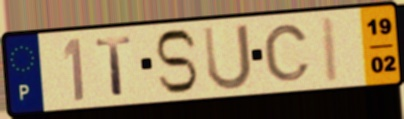1: (61, 36, 86, 104)
C: (261, 23, 313, 84)
I: (319, 14, 342, 85)
S: (152, 27, 200, 96)
T: (93, 34, 135, 98)
U: (201, 22, 255, 93)
